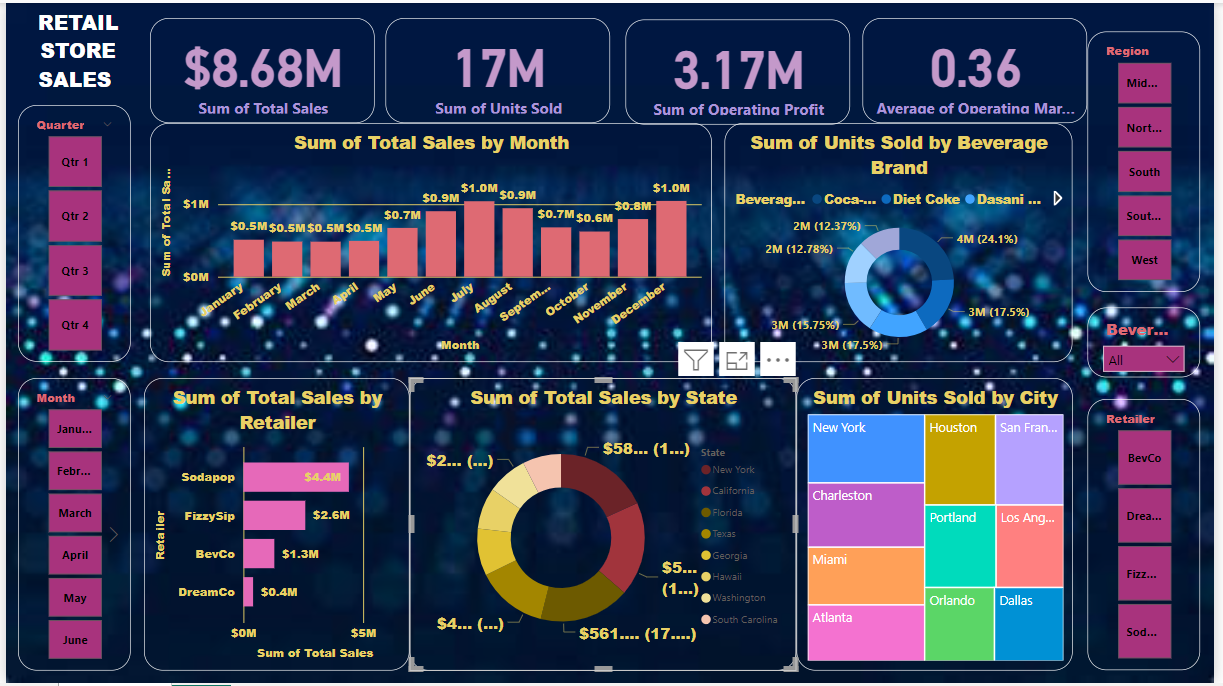

Layout of this report page (visuals, bound fields, positions):
{"tool":"powerbi","page":{"name":"Page 1","canvas":[1280,720],"ordinal":0},"visuals":[{"type":"slicer","fields":{"Values":["Sheet1.Invoice Date.Variation.Date Hierarchy.Month"]},"box":[13.2,396.9,119.1,309.9],"z":0},{"type":"slicer","fields":{"Values":["Sheet1.Invoice Date.Variation.Date Hierarchy.Quarter"]},"box":[13.2,107.7,119.1,272.1],"z":1000},{"type":"slicer","fields":{"Values":["Sheet1.Region"]},"box":[1145.2,30.2,119.1,275.9],"z":2000},{"type":"slicer","fields":{"Values":["Sheet1.Retailer"]},"box":[1145.2,419.5,119.1,287.2],"z":3000},{"type":"slicer","fields":{"Values":["Sheet1.Beverage Brand"]},"box":[1145.2,323.2,119.1,73.7],"z":4000},{"type":"card","fields":{"Values":["Sum(Sheet1.Total Sales)"]},"box":[153.1,15.1,238.1,111.5],"z":5000},{"type":"card","fields":{"Values":["Sum(Sheet1.Units Sold)"]},"box":[402.5,15.1,238.1,111.5],"z":6000},{"type":"card","fields":{"Values":["Avg(Sheet1.Operating Margin)"]},"box":[907.1,15.1,238.1,111.5],"z":7000},{"type":"card","fields":{"Values":["Sum(Sheet1.Operating Profit)"]},"box":[655.8,17,238.1,111.5],"z":8000},{"type":"columnChart","fields":{"Category":["Sheet1.Invoice Date.Variation.Date Hierarchy.Month"],"Y":["Sum(Sheet1.Total Sales)"]},"box":[153.1,126.6,595.3,253.2],"z":9000},{"type":"donutChart","fields":{"Y":["Sum(Sheet1.Units Sold)"],"Category":["Sheet1.Beverage Brand"]},"box":[761.6,126.6,368.5,253.2],"z":10000},{"type":"barChart","fields":{"Y":["Sum(Sheet1.Total Sales)"],"Category":["Sheet1.Retailer"]},"box":[145.5,396.9,281.6,309.9],"z":11000},{"type":"treemap","fields":{"Group":["Sheet1.City"],"Values":["Sum(Sheet1.Units Sold)"]},"box":[837.2,396.9,292.9,309.9],"z":12000},{"type":"donutChart","fields":{"Y":["Sum(Sheet1.Total Sales)"],"Category":["Sheet1.State"]},"box":[427.1,396.9,410.1,309.9],"z":13000},{"type":"textbox","box":[0,0,153.1,107.7],"z":14000}]}

Visuals, with their boxes in screenshot pixels (x1, y1, x2, y2), scaled from the page's 1280x720 canvas onto the 1223x686 screenshot:
slicer - Sheet1.Invoice Date.Variation.Date Hierarchy.Month: left=13, top=378, right=126, bottom=673
slicer - Sheet1.Invoice Date.Variation.Date Hierarchy.Quarter: left=13, top=103, right=126, bottom=362
slicer - Sheet1.Region: left=1094, top=29, right=1208, bottom=292
slicer - Sheet1.Retailer: left=1094, top=400, right=1208, bottom=673
slicer - Sheet1.Beverage Brand: left=1094, top=308, right=1208, bottom=378
card - Sum(Sheet1.Total Sales): left=146, top=14, right=374, bottom=121
card - Sum(Sheet1.Units Sold): left=385, top=14, right=612, bottom=121
card - Avg(Sheet1.Operating Margin): left=867, top=14, right=1094, bottom=121
card - Sum(Sheet1.Operating Profit): left=627, top=16, right=854, bottom=122
columnChart - Sheet1.Invoice Date.Variation.Date Hierarchy.Month x Sum(Sheet1.Total Sales): left=146, top=121, right=715, bottom=362
donutChart - Sum(Sheet1.Units Sold) x Sheet1.Beverage Brand: left=728, top=121, right=1080, bottom=362
barChart - Sum(Sheet1.Total Sales) x Sheet1.Retailer: left=139, top=378, right=408, bottom=673
treemap - Sheet1.City x Sum(Sheet1.Units Sold): left=800, top=378, right=1080, bottom=673
donutChart - Sum(Sheet1.Total Sales) x Sheet1.State: left=408, top=378, right=800, bottom=673
textbox: left=0, top=0, right=146, bottom=103
